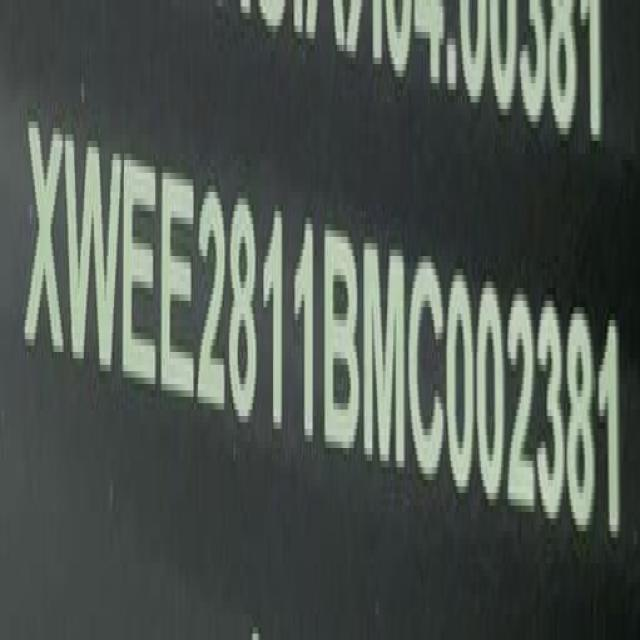0: (449, 264, 477, 496), (477, 277, 505, 508)
1: (264, 197, 288, 440), (296, 215, 319, 452), (603, 318, 625, 550)
2: (198, 178, 228, 420), (508, 292, 536, 520)
3: (541, 297, 567, 527)
8: (229, 192, 258, 427), (568, 303, 596, 536)
B: (324, 219, 361, 463)
C: (410, 249, 448, 488)
E: (123, 149, 161, 401), (160, 164, 196, 408)
M: (364, 235, 409, 478)
W: (67, 123, 122, 389)
X: (26, 112, 68, 372)
